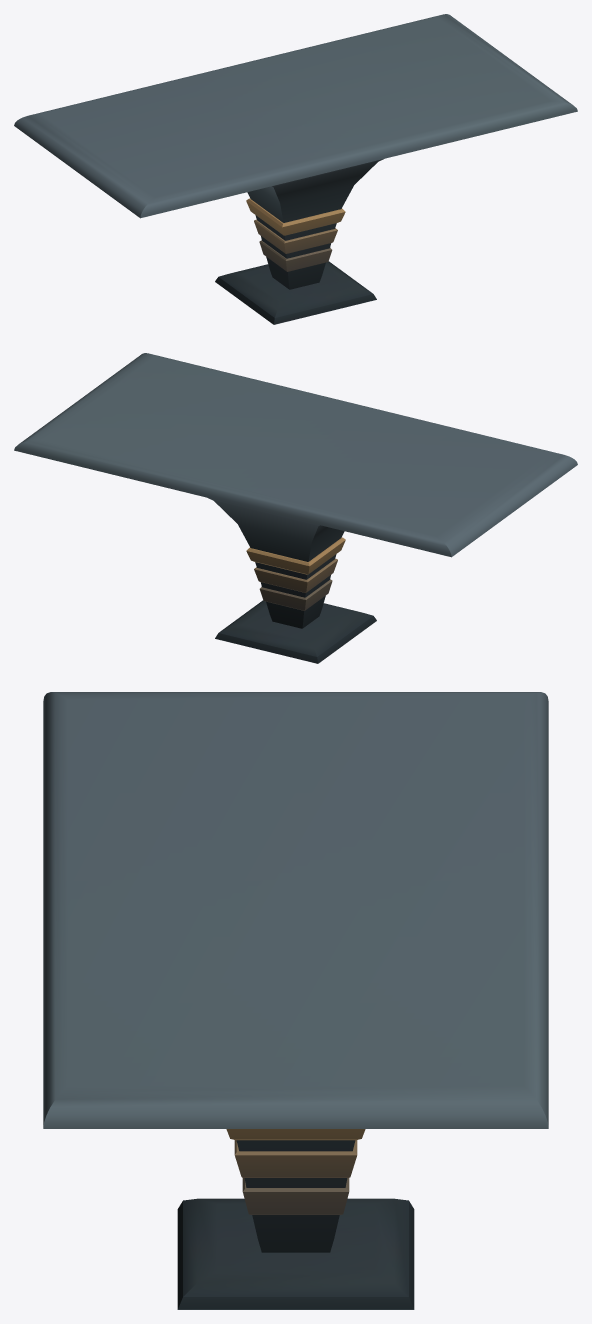
File: Table3.fbx
3 renders of one model, top to bottom at view 1: azimuth 30°, elevation 25°; view 2: azimuth 150°, elevation 25°; view 3: azimuth 270°, elevation 25°, orthographic. The views are drawn at different scales.
Parts seen in each view (by area): view 1: Table3; view 2: Table3; view 3: Table3.
Part boxes in pixels (x1=…): Table3: x1=14, y1=14, x2=577, y2=324; Table3: x1=14, y1=353, x2=577, y2=663; Table3: x1=43, y1=692, x2=548, y2=1309.
Size of the model in its own units: 2 by 1 by 0.8.
